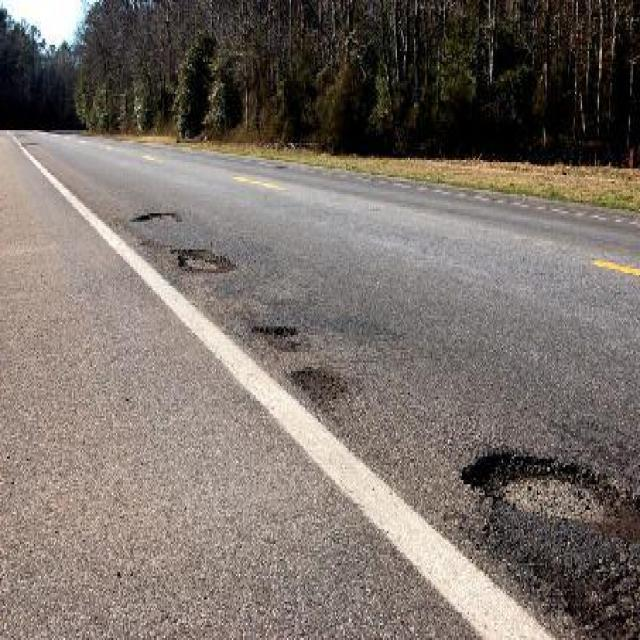Pothole: (463, 449, 620, 528), (292, 364, 353, 409), (175, 247, 240, 279), (251, 321, 305, 351), (135, 208, 186, 227)
